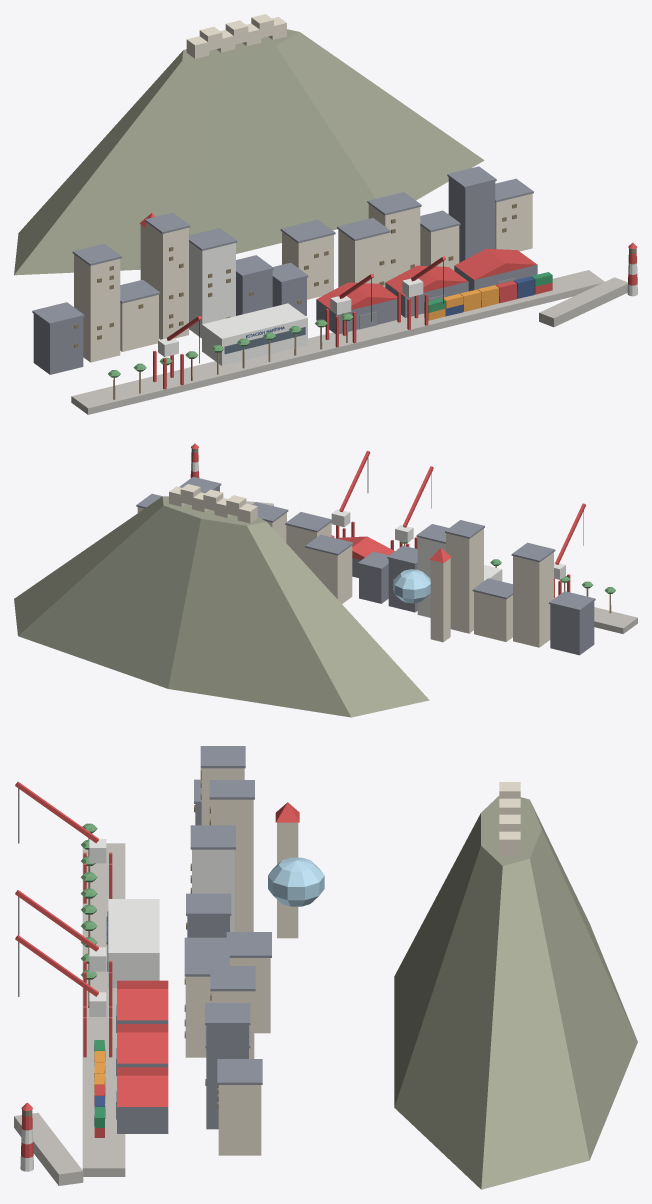
File: CR_Puerto_Silueta.fbx
3 renders of one model, top to bottom at view 1: azimuth 30°, elevation 25°; view 2: azimuth 150°, elevation 25°; view 3: azimuth 270°, elevation 25°, orthographic. The views are drawn at different scales.
Visible parts, largest first — view 1: CR_Puerto_Silueta; view 2: CR_Puerto_Silueta; view 3: CR_Puerto_Silueta.
Boxes of the visible parts, box(x1,y1,x2,y2) form: CR_Puerto_Silueta: box(14, 14, 637, 414); CR_Puerto_Silueta: box(14, 443, 637, 717); CR_Puerto_Silueta: box(14, 746, 637, 1189).
Bounding box in the file's own units: 192 × 63.7 × 146.
